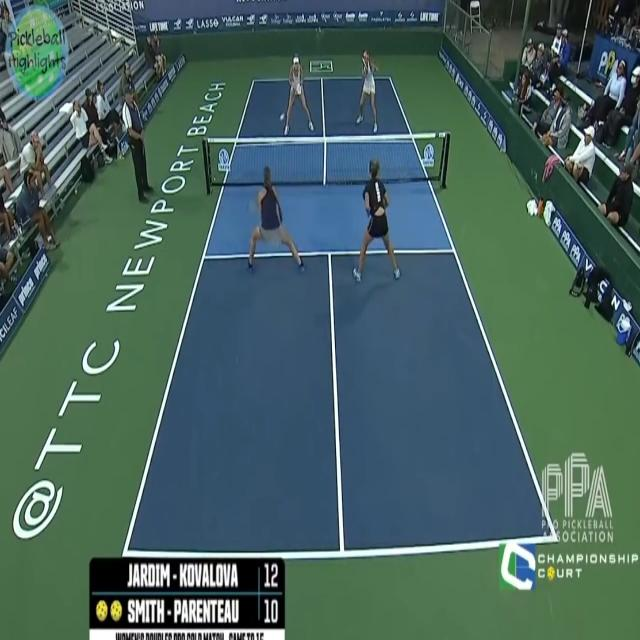Court: (125, 78, 557, 553)
ball: (276, 105, 289, 130)
